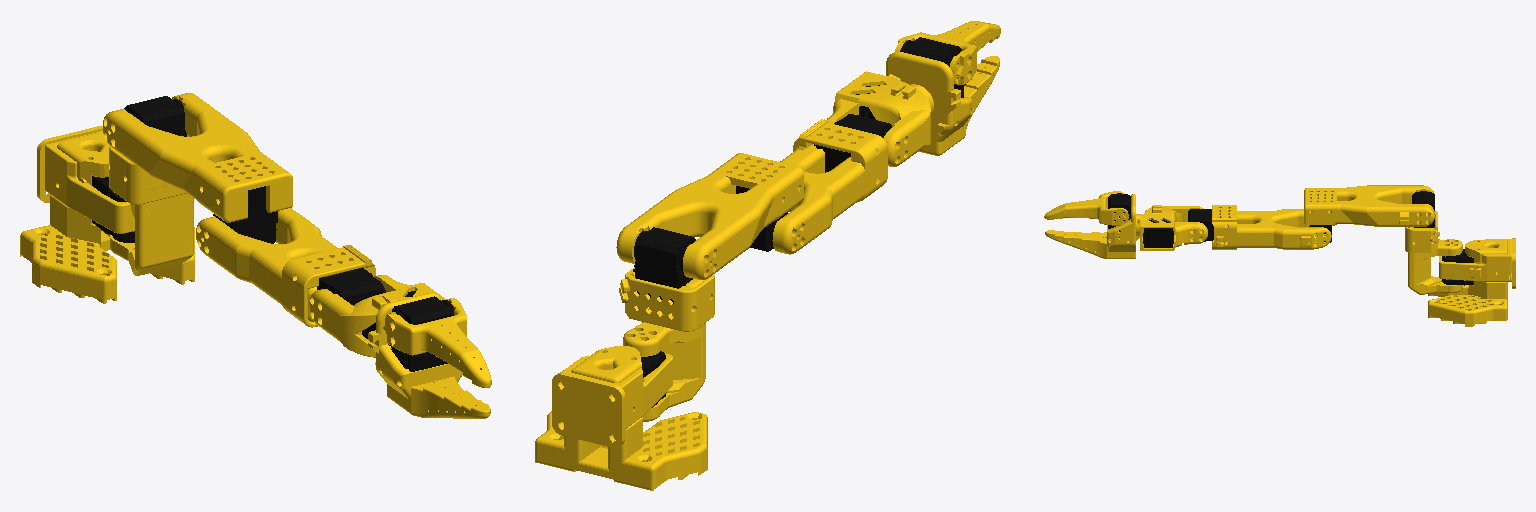
robot.urdf — so101_old_calib:
<?xml version='1.0' encoding='utf-8'?>
<!-- Generated using onshape-to-robot -->
<!-- Onshape https://cad.onshape.com/documents/7715cc284bb430fe6dab4ffd/w/4fd0791b683777b02f8d975a/e/826c553ede3b7592eb9ca800 -->
<robot name="so101_old_calib">

  <!-- Materials -->
  <material name="3d_printed">
    <color rgba="1.0 0.82 0.12 1.0"/>
  </material>
  <material name="sts3215">
    <color rgba="0.1 0.1 0.1 1.0"/>
  </material>

  <!-- Link base -->
  <link name="base">
    <inertial>
      <origin xyz="0.020739 0.00204287 0.065966" rpy="0 0 0"/>
      <mass value="0.147"/>
      <inertia ixx="0.000136117" ixy="4.59787e-07" ixz="9.75275e-08" iyy="0.000114686" iyz="-4.97151e-06" izz="0.000130364"/>
    </inertial>
    <!-- Part base_motor_holder_so101_v1 -->
    <visual>
      <origin xyz="0.0206915 0.0221255 0.0300817" rpy="1.5708 -1.23909e-16 2.33147e-15"/>
      <geometry>
        <mesh filename="assets/base_motor_holder_so101_v1.stl"/>
      </geometry>
      <material name="3d_printed"/>
    </visual>
    <collision>
      <origin xyz="0.0206915 0.0221255 0.0300817" rpy="1.5708 -1.23909e-16 2.33147e-15"/>
      <geometry>
        <mesh filename="assets/base_motor_holder_so101_v1.stl"/>
      </geometry>
    </collision>
    <!-- Part base_so101_v2 -->
    <visual>
      <origin xyz="0.0207909 0.0221255 0.0300817" rpy="1.5708 -0 0"/>
      <geometry>
        <mesh filename="assets/base_so101_v2.stl"/>
      </geometry>
      <material name="3d_printed"/>
    </visual>
    <collision>
      <origin xyz="0.0207909 0.0221255 0.0300817" rpy="1.5708 -0 0"/>
      <geometry>
        <mesh filename="assets/base_so101_v2.stl"/>
      </geometry>
    </collision>
    <!-- Part sts3215_03a_v1 -->
    <visual>
      <origin xyz="0.0207909 -0.0105745 0.0761817" rpy="-2.20282e-15 2.77556e-17 -1.5708"/>
      <geometry>
        <mesh filename="assets/sts3215_03a_v1.stl"/>
      </geometry>
      <material name="sts3215"/>
    </visual>
    <collision>
      <origin xyz="0.0207909 -0.0105745 0.0761817" rpy="-2.20282e-15 2.77556e-17 -1.5708"/>
      <geometry>
        <mesh filename="assets/sts3215_03a_v1.stl"/>
      </geometry>
    </collision>
    <!-- Part waveshare_mounting_plate_so101_v2 -->
    <visual>
      <origin xyz="0.0205915 0.0467435 0.0798817" rpy="1.5708 -1.21716e-14 2.33147e-15"/>
      <geometry>
        <mesh filename="assets/waveshare_mounting_plate_so101_v2.stl"/>
      </geometry>
      <material name="3d_printed"/>
    </visual>
    <collision>
      <origin xyz="0.0205915 0.0467435 0.0798817" rpy="1.5708 -1.21716e-14 2.33147e-15"/>
      <geometry>
        <mesh filename="assets/waveshare_mounting_plate_so101_v2.stl"/>
      </geometry>
    </collision>
  </link>

  <!-- Link shoulder -->
  <link name="shoulder">
    <inertial>
      <origin xyz="-0.0307604 -1.66727e-05 -0.0252713" rpy="0 0 0"/>
      <mass value="0.100006"/>
      <inertia ixx="8.3759e-05" ixy="7.55525e-08" ixz="-1.16342e-06" iyy="8.10403e-05" iyz="1.54663e-07" izz="2.39783e-05"/>
    </inertial>
    <!-- Part sts3215_03a_v1_2 -->
    <visual>
      <origin xyz="-0.0303992 0.000422241 -0.0417" rpy="1.5708 1.5708 0"/>
      <geometry>
        <mesh filename="assets/sts3215_03a_v1.stl"/>
      </geometry>
      <material name="sts3215"/>
    </visual>
    <collision>
      <origin xyz="-0.0303992 0.000422241 -0.0417" rpy="1.5708 1.5708 0"/>
      <geometry>
        <mesh filename="assets/sts3215_03a_v1.stl"/>
      </geometry>
    </collision>
    <!-- Part motor_holder_so101_base_v1 -->
    <visual>
      <origin xyz="-0.0675992 -0.000177759 0.0158499" rpy="1.5708 -1.5708 0"/>
      <geometry>
        <mesh filename="assets/motor_holder_so101_base_v1.stl"/>
      </geometry>
      <material name="3d_printed"/>
    </visual>
    <collision>
      <origin xyz="-0.0675992 -0.000177759 0.0158499" rpy="1.5708 -1.5708 0"/>
      <geometry>
        <mesh filename="assets/motor_holder_so101_base_v1.stl"/>
      </geometry>
    </collision>
    <!-- Part rotation_pitch_so101_v1 -->
    <visual>
      <origin xyz="0.0122008 2.22413e-05 0.0464" rpy="-1.5708 -0 0"/>
      <geometry>
        <mesh filename="assets/rotation_pitch_so101_v1.stl"/>
      </geometry>
      <material name="3d_printed"/>
    </visual>
    <collision>
      <origin xyz="0.0122008 2.22413e-05 0.0464" rpy="-1.5708 -0 0"/>
      <geometry>
        <mesh filename="assets/rotation_pitch_so101_v1.stl"/>
      </geometry>
    </collision>
  </link>

  <!-- Link upper_arm -->
  <link name="upper_arm">
    <inertial>
      <origin xyz="-0.00838224 0.0898471 0.0184089" rpy="0 0 0"/>
      <mass value="0.103"/>
      <inertia ixx="0.000147318" ixy="1.97819e-05" ixz="8.97326e-09" iyy="4.08002e-05" iyz="4.03016e-08" izz="0.000142487"/>
    </inertial>
    <!-- Part sts3215_03a_v1_3 -->
    <visual>
      <origin xyz="-0.0155 0.11257 0.0187" rpy="-3.14159 -3.22659e-15 -3.14159"/>
      <geometry>
        <mesh filename="assets/sts3215_03a_v1.stl"/>
      </geometry>
      <material name="sts3215"/>
    </visual>
    <collision>
      <origin xyz="-0.0155 0.11257 0.0187" rpy="-3.14159 -3.22659e-15 -3.14159"/>
      <geometry>
        <mesh filename="assets/sts3215_03a_v1.stl"/>
      </geometry>
    </collision>
    <!-- Part upper_arm_so101_v1 -->
    <visual>
      <origin xyz="0.012 0.065085 0.0182" rpy="3.14159 -1.22125e-15 -1.5708"/>
      <geometry>
        <mesh filename="assets/upper_arm_so101_v1.stl"/>
      </geometry>
      <material name="3d_printed"/>
    </visual>
    <collision>
      <origin xyz="0.012 0.065085 0.0182" rpy="3.14159 -1.22125e-15 -1.5708"/>
      <geometry>
        <mesh filename="assets/upper_arm_so101_v1.stl"/>
      </geometry>
    </collision>
  </link>

  <!-- Link lower_arm -->
  <link name="lower_arm">
    <inertial>
      <origin xyz="-0.00324376 -0.0980701 0.0182831" rpy="0 0 0"/>
      <mass value="0.104"/>
      <inertia ixx="0.000159844" ixy="-7.41152e-06" ixz="4.90188e-08" iyy="2.87438e-05" iyz="1.26409e-06" izz="0.00014529"/>
    </inertial>
    <!-- Part under_arm_so101_v1 -->
    <visual>
      <origin xyz="0.032 -0.0648499 0.0182" rpy="3.14159 -1.11022e-16 1.5708"/>
      <geometry>
        <mesh filename="assets/under_arm_so101_v1.stl"/>
      </geometry>
      <material name="3d_printed"/>
    </visual>
    <collision>
      <origin xyz="0.032 -0.0648499 0.0182" rpy="3.14159 -1.11022e-16 1.5708"/>
      <geometry>
        <mesh filename="assets/under_arm_so101_v1.stl"/>
      </geometry>
    </collision>
    <!-- Part motor_holder_so101_wrist_v1 -->
    <visual>
      <origin xyz="0.032 -0.0648499 0.018" rpy="-3.14159 -1.11022e-16 1.5708"/>
      <geometry>
        <mesh filename="assets/motor_holder_so101_wrist_v1.stl"/>
      </geometry>
      <material name="3d_printed"/>
    </visual>
    <collision>
      <origin xyz="0.032 -0.0648499 0.018" rpy="-3.14159 -1.11022e-16 1.5708"/>
      <geometry>
        <mesh filename="assets/motor_holder_so101_wrist_v1.stl"/>
      </geometry>
    </collision>
    <!-- Part sts3215_03a_v1_4 -->
    <visual>
      <origin xyz="-0.0052 -0.1224 0.0187" rpy="3.14159 -8.24341e-15 -1.5708"/>
      <geometry>
        <mesh filename="assets/sts3215_03a_v1.stl"/>
      </geometry>
      <material name="sts3215"/>
    </visual>
    <collision>
      <origin xyz="-0.0052 -0.1224 0.0187" rpy="3.14159 -8.24341e-15 -1.5708"/>
      <geometry>
        <mesh filename="assets/sts3215_03a_v1.stl"/>
      </geometry>
    </collision>
  </link>

  <!-- Link wrist -->
  <link name="wrist">
    <inertial>
      <origin xyz="-0.000103312 -0.0386143 0.0281156" rpy="0 0 0"/>
      <mass value="0.079"/>
      <inertia ixx="3.68263e-05" ixy="1.7893e-08" ixz="-5.28128e-08" iyy="2.5391e-05" iyz="3.6412e-06" izz="2.1e-05"/>
    </inertial>
    <!-- Part sts3215_03a_no_horn_v1 -->
    <visual>
      <origin xyz="0 -0.0424 0.0306" rpy="1.5708 1.5708 0"/>
      <geometry>
        <mesh filename="assets/sts3215_03a_no_horn_v1.stl"/>
      </geometry>
      <material name="sts3215"/>
    </visual>
    <collision>
      <origin xyz="0 -0.0424 0.0306" rpy="1.5708 1.5708 0"/>
      <geometry>
        <mesh filename="assets/sts3215_03a_no_horn_v1.stl"/>
      </geometry>
    </collision>
    <!-- Part wrist_roll_pitch_so101_v2 -->
    <visual>
      <origin xyz="-2.77556e-17 -0.028 0.0181" rpy="-1.5708 -1.5708 0"/>
      <geometry>
        <mesh filename="assets/wrist_roll_pitch_so101_v2.stl"/>
      </geometry>
      <material name="3d_printed"/>
    </visual>
    <collision>
      <origin xyz="-2.77556e-17 -0.028 0.0181" rpy="-1.5708 -1.5708 0"/>
      <geometry>
        <mesh filename="assets/wrist_roll_pitch_so101_v2.stl"/>
      </geometry>
    </collision>
  </link>

  <!-- Link gripper -->
  <link name="gripper">
    <inertial>
      <origin xyz="0.000213627 0.000245138 -0.025187" rpy="0 0 0"/>
      <mass value="0.087"/>
      <inertia ixx="2.75087e-05" ixy="-3.35241e-07" ixz="-5.7352e-06" iyy="4.33657e-05" iyz="-5.17847e-08" izz="3.45059e-05"/>
    </inertial>
    <!-- Part sts3215_03a_v1_5 -->
    <visual>
      <origin xyz="0.0077 0.0001 -0.0234" rpy="-1.5708 -5.55112e-17 -1.38213e-14"/>
      <geometry>
        <mesh filename="assets/sts3215_03a_v1.stl"/>
      </geometry>
      <material name="sts3215"/>
    </visual>
    <collision>
      <origin xyz="0.0077 0.0001 -0.0234" rpy="-1.5708 -5.55112e-17 -1.38213e-14"/>
      <geometry>
        <mesh filename="assets/sts3215_03a_v1.stl"/>
      </geometry>
    </collision>
    <!-- Part wrist_roll_follower_so101_v1 -->
    <visual>
      <origin xyz="1.11022e-16 -0.000218214 0.000949706" rpy="-3.14159 -5.55112e-17 -6.22813e-24"/>
      <geometry>
        <mesh filename="assets/wrist_roll_follower_so101_v1.stl"/>
      </geometry>
      <material name="3d_printed"/>
    </visual>
    <collision>
      <origin xyz="1.11022e-16 -0.000218214 0.000949706" rpy="-3.14159 -5.55112e-17 -6.22813e-24"/>
      <geometry>
        <mesh filename="assets/wrist_roll_follower_so101_v1.stl"/>
      </geometry>
    </collision>
  </link>

  <!-- Link jaw -->
  <link name="jaw">
    <inertial>
      <origin xyz="-0.00157495 -0.0300244 0.0192755" rpy="0 0 0"/>
      <mass value="0.012"/>
      <inertia ixx="6.61427e-06" ixy="-3.19807e-07" ixz="-5.90717e-09" iyy="1.89032e-06" iyz="-1.09945e-07" izz="5.28738e-06"/>
    </inertial>
    <!-- Part moving_jaw_so101_v1 -->
    <visual>
      <origin xyz="0 1.89351e-17 0.0189" rpy="9.53145e-17 -1.20743e-23 0"/>
      <geometry>
        <mesh filename="assets/moving_jaw_so101_v1.stl"/>
      </geometry>
      <material name="3d_printed"/>
    </visual>
    <collision>
      <origin xyz="0 1.89351e-17 0.0189" rpy="9.53145e-17 -1.20743e-23 0"/>
      <geometry>
        <mesh filename="assets/moving_jaw_so101_v1.stl"/>
      </geometry>
    </collision>
  </link>

  <!-- Joint from gripper to jaw -->
  <joint name="gripper" type="revolute">
    <origin xyz="0.0202 0.0188 -0.0234" rpy="1.5708 -7.91661e-17 -1.0396e-16"/>
    <parent link="gripper"/>
    <child link="jaw"/>
    <axis xyz="0 0 1"/>
    <limit effort="10" velocity="10" lower="-0.174533" upper="1.74533"/>
  </joint>

  <transmission name="gripper_trans">
    <type>transmission_interface/SimpleTransmission</type>
    <joint name="gripper">
      <hardwareInterface>hardware_interface/PositionJointInterface</hardwareInterface>
    </joint>
    <actuator name="motor6">
      <hardwareInterface>hardware_interface/PositionJointInterface</hardwareInterface>
      <mechanicalReduction>1</mechanicalReduction>
    </actuator>
  </transmission>

  <!-- Joint from wrist to gripper -->
  <joint name="wrist_roll" type="revolute">
    <origin xyz="2.77556e-17 -0.0611 0.0181" rpy="1.5708 -9.38083e-08 3.14159"/>
    <parent link="wrist"/>
    <child link="gripper"/>
    <axis xyz="0 0 1"/>
    <limit effort="10" velocity="10" lower="-2.79253" upper="2.79253"/>
  </joint>

  <transmission name="wrist_roll_trans">
    <type>transmission_interface/SimpleTransmission</type>
    <joint name="wrist_roll">
      <hardwareInterface>hardware_interface/PositionJointInterface</hardwareInterface>
    </joint>
    <actuator name="motor5">
      <hardwareInterface>hardware_interface/PositionJointInterface</hardwareInterface>
      <mechanicalReduction>1</mechanicalReduction>
    </actuator>
  </transmission>

  <!-- Joint from lower_arm to wrist -->
  <joint name="wrist_flex" type="revolute">
    <origin xyz="-0.0052 -0.1349 3.40439e-16" rpy="-1.41553e-15 4.91611e-15 7.56157e-09"/>
    <parent link="lower_arm"/>
    <child link="wrist"/>
    <axis xyz="0 0 1"/>
    <limit effort="10" velocity="10" lower="-1.65806" upper="1.65806"/>
  </joint>

  <transmission name="wrist_flex_trans">
    <type>transmission_interface/SimpleTransmission</type>
    <joint name="wrist_flex">
      <hardwareInterface>hardware_interface/PositionJointInterface</hardwareInterface>
    </joint>
    <actuator name="motor4">
      <hardwareInterface>hardware_interface/PositionJointInterface</hardwareInterface>
      <mechanicalReduction>1</mechanicalReduction>
    </actuator>
  </transmission>

  <!-- Joint from upper_arm to lower_arm -->
  <joint name="elbow_flex" type="revolute">
    <origin xyz="-0.028 0.11257 1.24466e-16" rpy="1.89432e-15 -3.22659e-15 -3.14159"/>
    <parent link="upper_arm"/>
    <child link="lower_arm"/>
    <axis xyz="0 0 1"/>
    <limit effort="10" velocity="10" lower="-0.174533" upper="3.14159"/>
  </joint>

  <transmission name="elbow_flex_trans">
    <type>transmission_interface/SimpleTransmission</type>
    <joint name="elbow_flex">
      <hardwareInterface>hardware_interface/PositionJointInterface</hardwareInterface>
    </joint>
    <actuator name="motor3">
      <hardwareInterface>hardware_interface/PositionJointInterface</hardwareInterface>
      <mechanicalReduction>1</mechanicalReduction>
    </actuator>
  </transmission>

  <!-- Joint from shoulder to upper_arm -->
  <joint name="shoulder_lift" type="revolute">
    <origin xyz="-0.0303992 -0.0182778 -0.0542" rpy="-1.5708 1.5708 0"/>
    <parent link="shoulder"/>
    <child link="upper_arm"/>
    <axis xyz="0 0 1"/>
    <limit effort="10" velocity="10" lower="-3.31613" upper="0.174533"/>
  </joint>

  <transmission name="shoulder_lift_trans">
    <type>transmission_interface/SimpleTransmission</type>
    <joint name="shoulder_lift">
      <hardwareInterface>hardware_interface/PositionJointInterface</hardwareInterface>
    </joint>
    <actuator name="motor2">
      <hardwareInterface>hardware_interface/PositionJointInterface</hardwareInterface>
      <mechanicalReduction>1</mechanicalReduction>
    </actuator>
  </transmission>

  <!-- Joint from base to shoulder -->
  <joint name="shoulder_pan" type="revolute">
    <origin xyz="0.0207909 -0.0230745 0.0948817" rpy="-3.14159 6.03684e-16 1.5708"/>
    <parent link="base"/>
    <child link="shoulder"/>
    <axis xyz="0 0 1"/>
    <limit effort="10" velocity="10" lower="-1.91986" upper="1.91986"/>
  </joint>

  <transmission name="shoulder_pan_trans">
    <type>transmission_interface/SimpleTransmission</type>
    <joint name="shoulder_pan">
      <hardwareInterface>hardware_interface/PositionJointInterface</hardwareInterface>
    </joint>
    <actuator name="motor1">
      <hardwareInterface>hardware_interface/PositionJointInterface</hardwareInterface>
      <mechanicalReduction>1</mechanicalReduction>
    </actuator>
  </transmission>

</robot>

--- What the picture shows (computed from the rendered views, not written in the file) ---
The picture shows the robot from 3 angles, left to right: view 1: azimuth 30°, elevation 25°; view 2: azimuth 150°, elevation 25°; view 3: azimuth 270°, elevation 25°; orthographic projection.
Robot: so101_old_calib — 7 links, 6 joints (6 revolute); root link base; default pose: every joint at zero.
Links seen in each view (by area): view 1: base, upper_arm, lower_arm, shoulder, gripper, jaw, wrist; view 2: base, upper_arm, shoulder, lower_arm, gripper, wrist, jaw; view 3: base, upper_arm, lower_arm, shoulder, gripper, wrist, jaw.
Link boxes in pixels (bbox=[...]): base: bbox=[20, 126, 194, 303]; upper_arm: bbox=[103, 93, 292, 243]; lower_arm: bbox=[196, 208, 385, 327]; shoulder: bbox=[109, 96, 193, 275]; gripper: bbox=[368, 293, 490, 418]; jaw: bbox=[383, 298, 491, 387]; wrist: bbox=[309, 275, 445, 357]; base: bbox=[535, 346, 707, 490]; upper_arm: bbox=[616, 153, 803, 279]; shoulder: bbox=[619, 227, 714, 421]; lower_arm: bbox=[772, 114, 891, 254]; gripper: bbox=[886, 37, 999, 155]; wrist: bbox=[827, 71, 930, 166]; jaw: bbox=[895, 21, 1000, 84]; base: bbox=[1428, 238, 1515, 326]; upper_arm: bbox=[1304, 185, 1434, 242]; lower_arm: bbox=[1188, 205, 1331, 249]; shoulder: bbox=[1405, 191, 1462, 294]; gripper: bbox=[1045, 193, 1141, 258]; wrist: bbox=[1137, 205, 1207, 250]; jaw: bbox=[1044, 191, 1128, 225].
Size in the robot's own frame: 0.1109 by 0.5142 by 0.131 metres.
17 mesh visuals loaded from 13 distinct referenced files (13 binary STL).